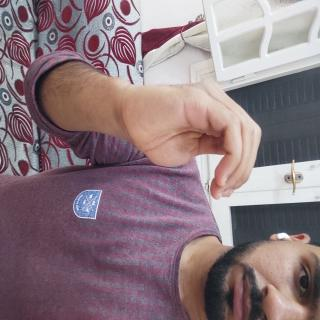HAA: (50, 79, 158, 273)
